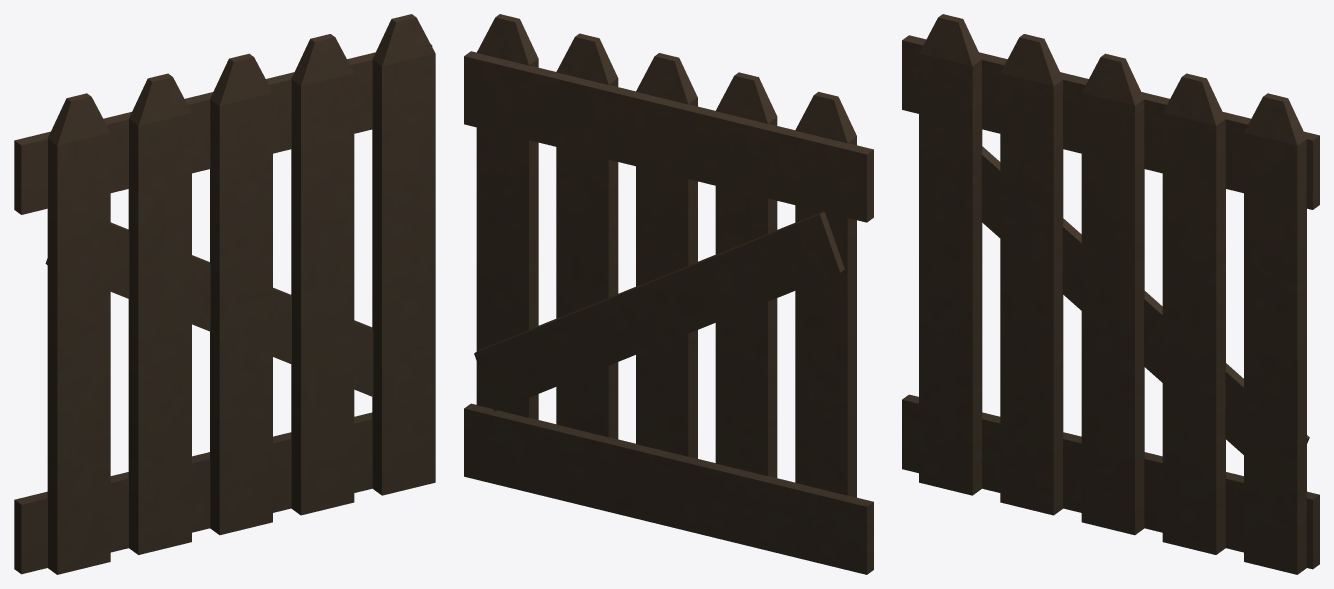
Rendered from Fence_Door.obj.
3 views of the same model, side by side, from view 1: azimuth 30°, elevation 25°; view 2: azimuth 150°, elevation 25°; view 3: azimuth 330°, elevation 25° (orthographic).
Parts seen in each view (by area): view 1: Fence_Door; view 2: Fence_Door; view 3: Fence_Door.
Part boxes in pixels (x1,y1,x2,y2): Fence_Door: [14, 14, 435, 574]; Fence_Door: [464, 14, 873, 574]; Fence_Door: [902, 14, 1319, 574].
Size of the model in its own units: 0.9044 by 0.983 by 0.0625.
